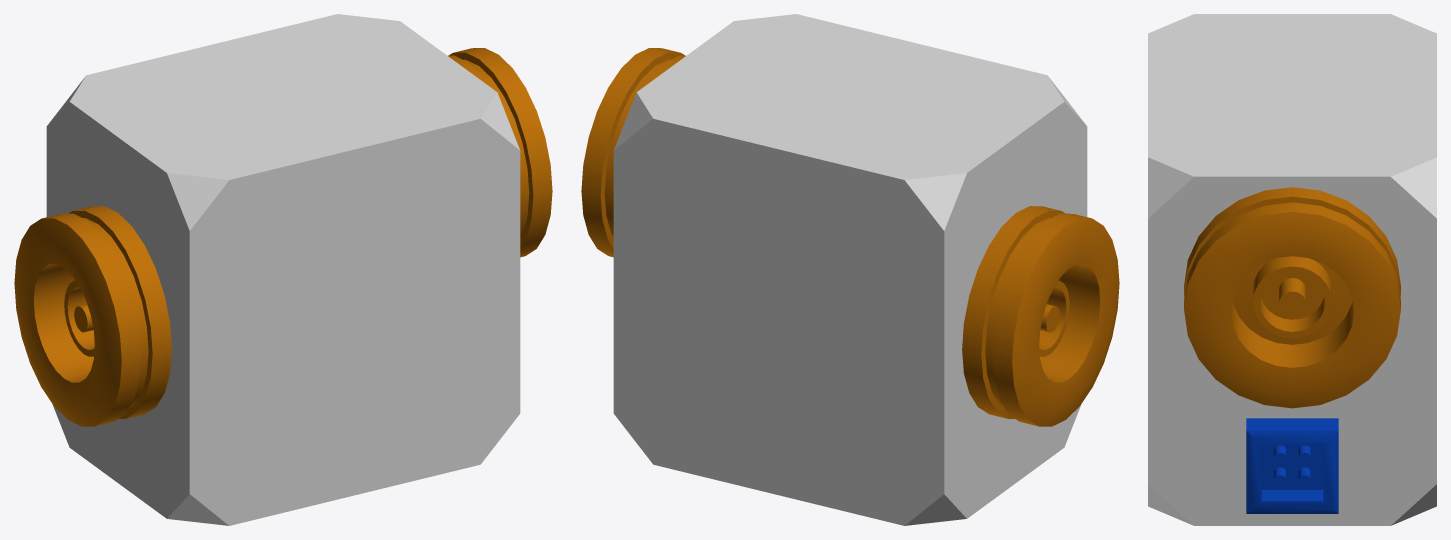
Rendered from HighVoltageRelay.gltf.
3 views of the same model, side by side, from view 1: azimuth 30°, elevation 25°; view 2: azimuth 150°, elevation 25°; view 3: azimuth 270°, elevation 25° (orthographic).
Visible parts, largest first — view 1: base; view 2: base; view 3: base.
Boxes of the visible parts, <box> form: base: <box>14,14,552,525</box>; base: <box>581,14,1119,525</box>; base: <box>1148,14,1436,525</box>.
Bounding box in the file's own units: 0.3334 × 0.25 × 0.1875.
